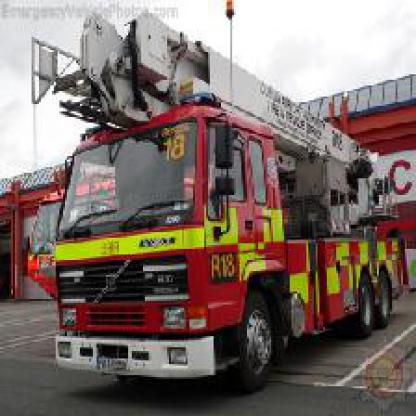emergency: (9, 15, 414, 401)
